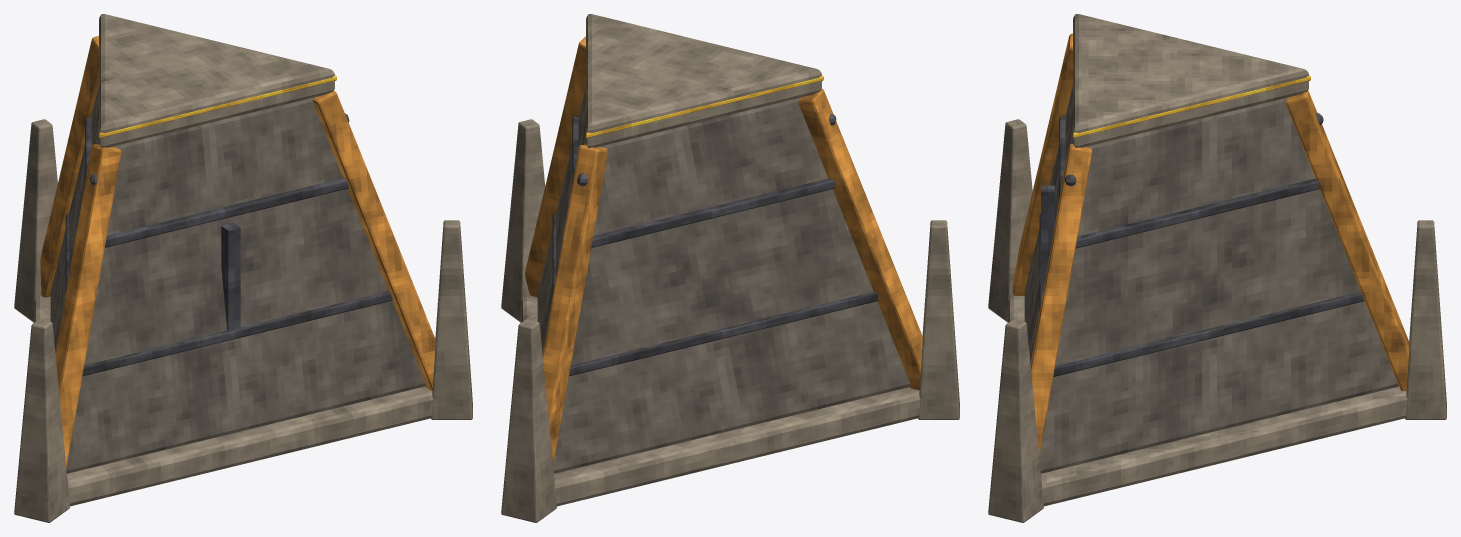
The model's file is shaft_triangle.gltf.
3 views of the same model, side by side, from view 1: azimuth 30°, elevation 25°; view 2: azimuth 150°, elevation 25°; view 3: azimuth 270°, elevation 25° (orthographic).
Parts seen in each view (by area): view 1: shaft_triangle_stone, shaft_triangle_stone_lite, shaft_triangle_brass, Tier3_stone_lite, Tier2_iron, shaft_triangle_iron, Tier4_gold; view 2: shaft_triangle_stone, shaft_triangle_stone_lite, shaft_triangle_brass, Tier3_stone_lite, Tier2_iron, Tier4_gold; view 3: shaft_triangle_stone, shaft_triangle_stone_lite, Tier3_stone_lite, shaft_triangle_brass, Tier2_iron, Tier4_gold, shaft_triangle_iron.
Boxes of the visible parts, x1,y1,x2,y2 form: shaft_triangle_stone: (50,86,425,473); shaft_triangle_stone_lite: (34,14,433,506); shaft_triangle_brass: (40,36,435,466); Tier3_stone_lite: (14,119,472,522); Tier2_iron: (65,113,392,376); shaft_triangle_iron: (221,223,240,331); Tier4_gold: (99,19,336,138); shaft_triangle_stone: (537,86,910,473); shaft_triangle_stone_lite: (521,14,920,506); shaft_triangle_brass: (525,36,922,466); Tier3_stone_lite: (501,119,959,522); Tier2_iron: (552,113,878,376); Tier4_gold: (586,19,823,138); shaft_triangle_stone: (1024,85,1398,473); shaft_triangle_stone_lite: (1008,14,1407,506); Tier3_stone_lite: (988,119,1446,522); shaft_triangle_brass: (1012,33,1409,455); Tier2_iron: (1039,113,1364,376); Tier4_gold: (1073,19,1310,138); shaft_triangle_iron: (1041,185,1054,291).
Bounding box in the file's own units: 1.12 × 0.8 × 0.9682.
Materials: 5 (5 with a texture image).
